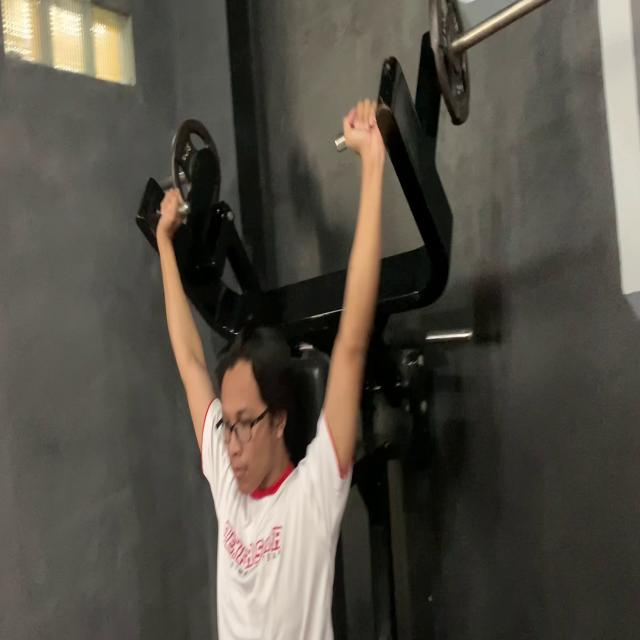Shoulder press: (111, 55, 440, 640)
